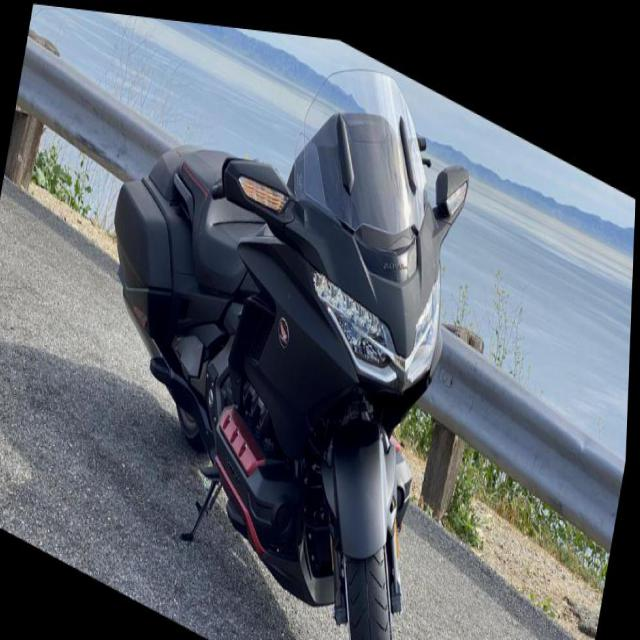Gold Wing: (56, 7, 504, 639)
